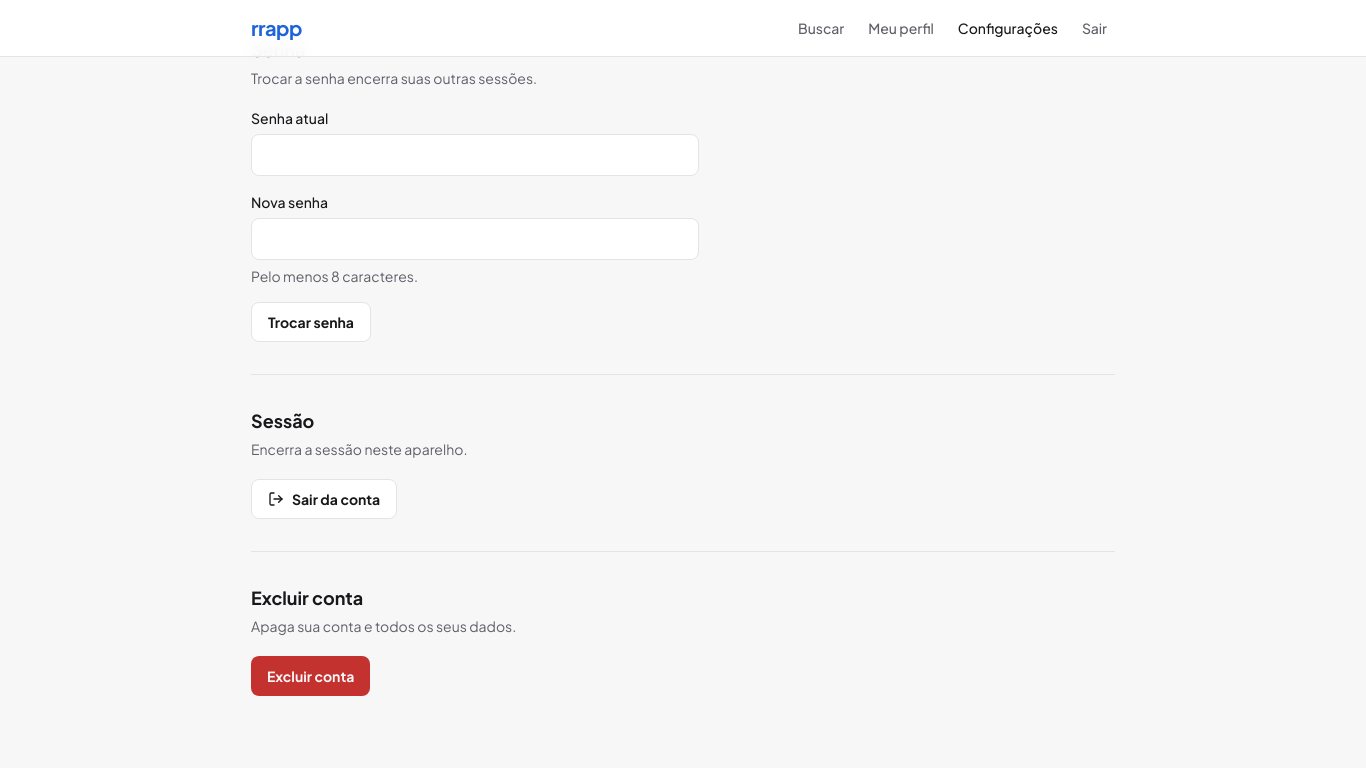
Test case: excluir conta pede a senha e desloga
(page scrolled)
Click the button "Excluir conta" at (311, 676), box [251,656,370,696]
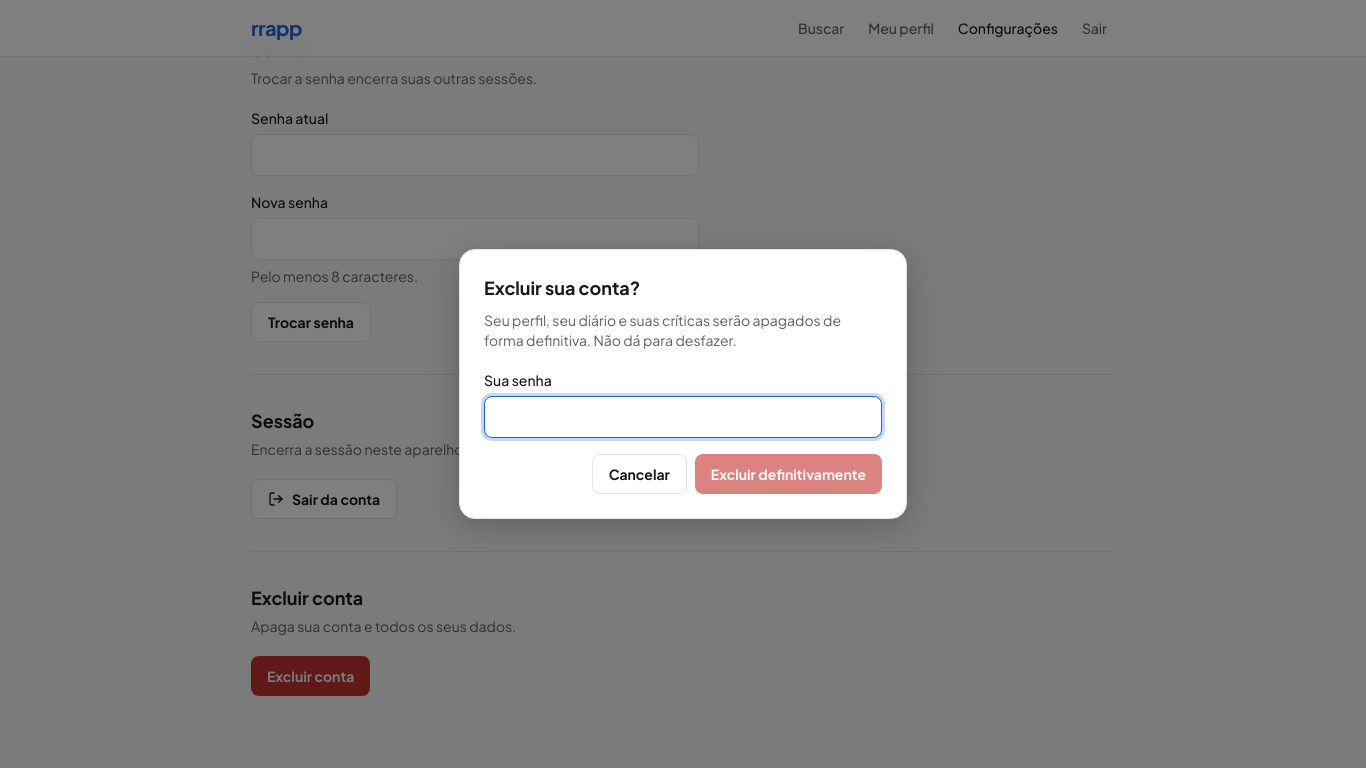
Type "senha-forte-123" into the password field labelled "Sua senha" at (683, 417), box [484,396,882,438]
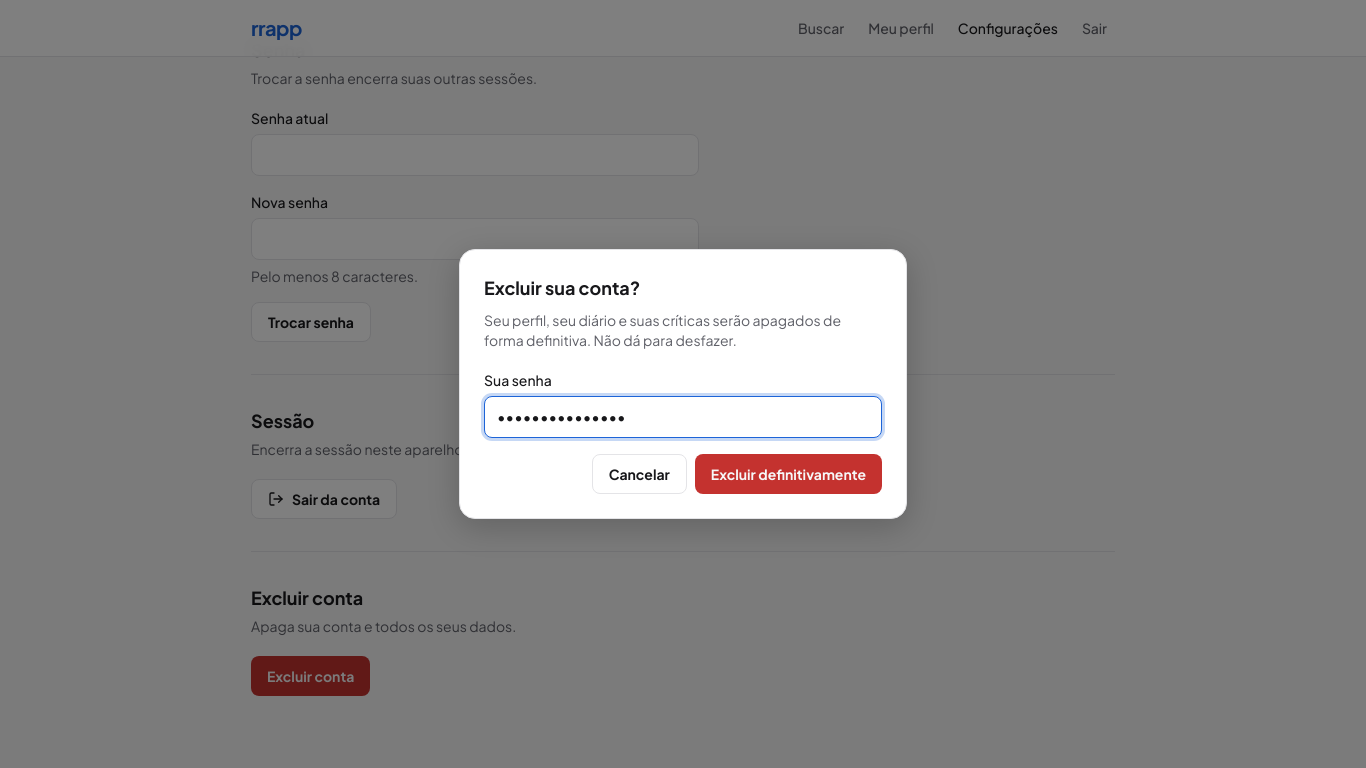
Click the button "Excluir definitivamente" at (788, 474), box [695,454,882,494]
(page scrolled)
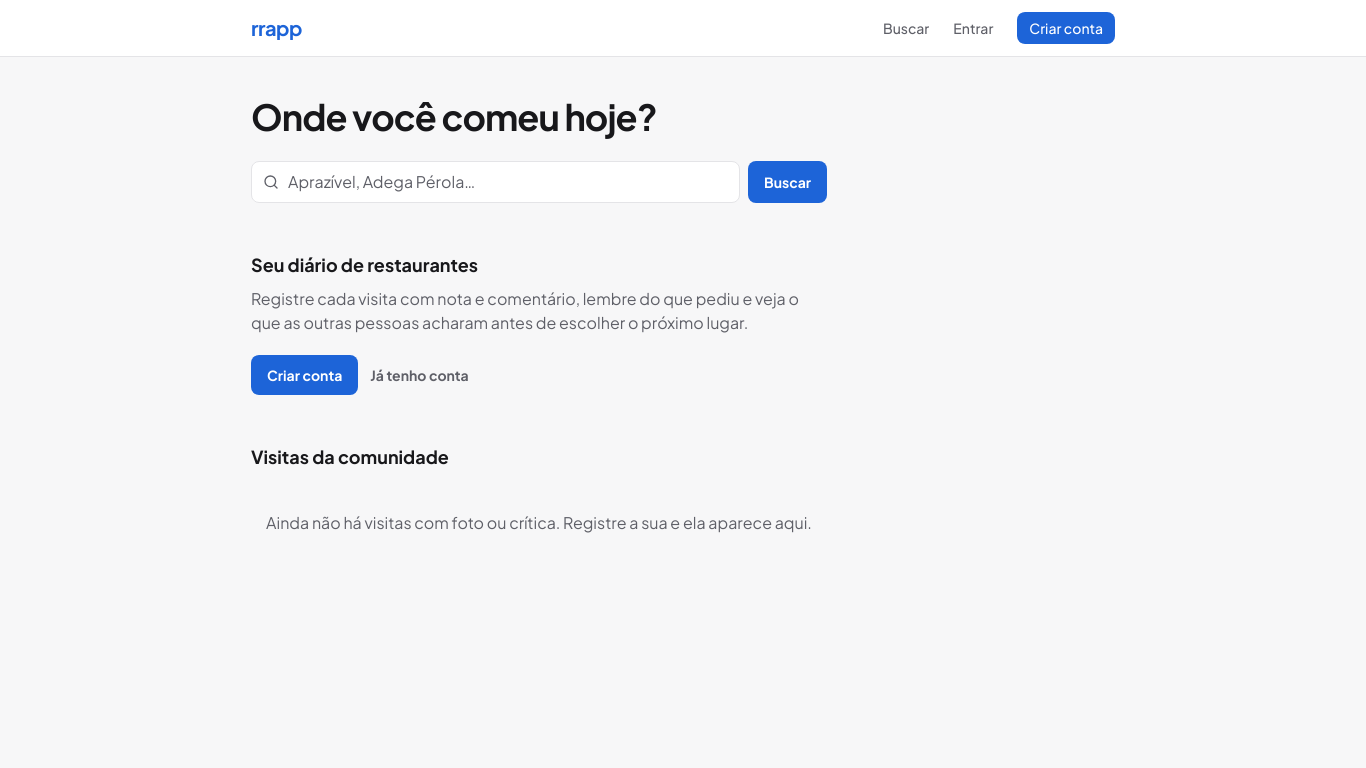
Expected: the heading "Onde você comeu hoje?" is shown, [251,94,657,139]
